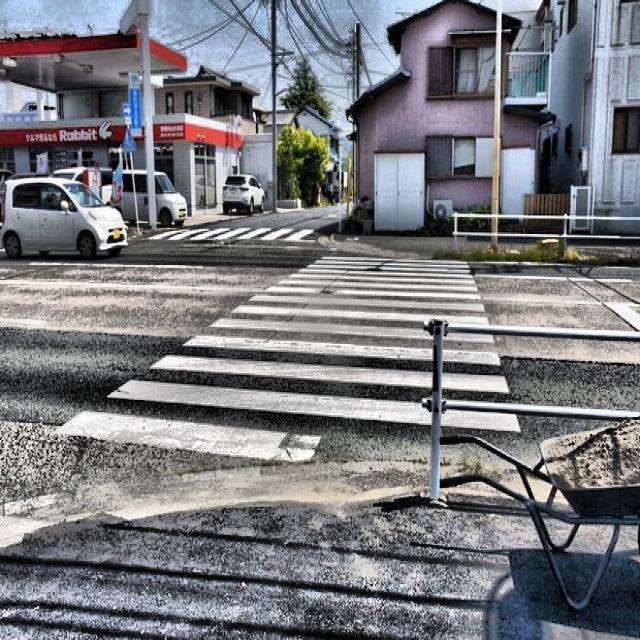crosswalk: (52, 254, 535, 485), (143, 227, 318, 240)
